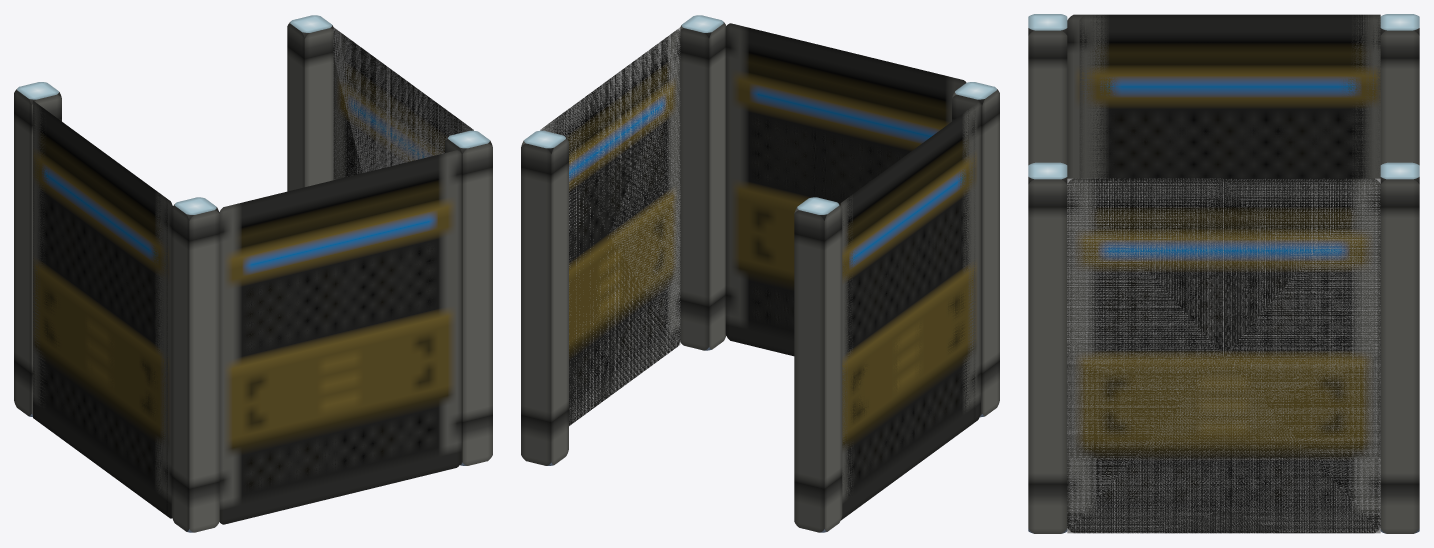
The picture shows the model from 3 angles, left to right: view 1: azimuth 30°, elevation 25°; view 2: azimuth 150°, elevation 25°; view 3: azimuth 270°, elevation 25°; orthographic projection. The views are drawn at different scales.
Visible parts, largest first — view 1: S, W, SW, E, SE, NE, NW; view 2: W, S, E, NW, NE, SE, SW; view 3: E, W, NE, SE, NW, SW.
Boxes of the visible parts, left/top/right/bottom form: S: left=219, top=150, right=461, bottom=524; W: left=33, top=100, right=172, bottom=518; SW: left=171, top=197, right=219, bottom=532; E: left=333, top=27, right=473, bottom=179; SE: left=445, top=130, right=492, bottom=465; NE: left=287, top=15, right=333, bottom=191; NW: left=14, top=82, right=61, bottom=416; W: left=840, top=102, right=980, bottom=520; S: left=725, top=23, right=966, bottom=356; E: left=540, top=27, right=680, bottom=425; NW: left=794, top=197, right=842, bottom=532; NE: left=521, top=130, right=568, bottom=465; SE: left=680, top=15, right=726, bottom=350; SW: left=952, top=82, right=999, bottom=417; E: left=1067, top=178, right=1380, bottom=533; W: left=1067, top=14, right=1380, bottom=178; NE: left=1380, top=162, right=1419, bottom=533; SE: left=1028, top=162, right=1067, bottom=533; NW: left=1380, top=14, right=1419, bottom=165; SW: left=1028, top=14, right=1067, bottom=165.
Bounding box in the file's own units: 2 × 2 × 2.
2 materials, 1 textured.
